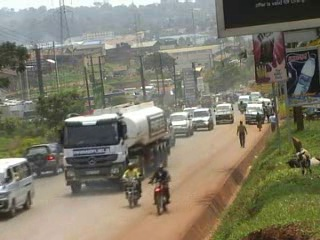Car: (20, 144, 68, 177), (165, 109, 195, 140), (189, 105, 215, 132)
Motorcycle: (147, 163, 174, 215), (118, 160, 144, 208)
